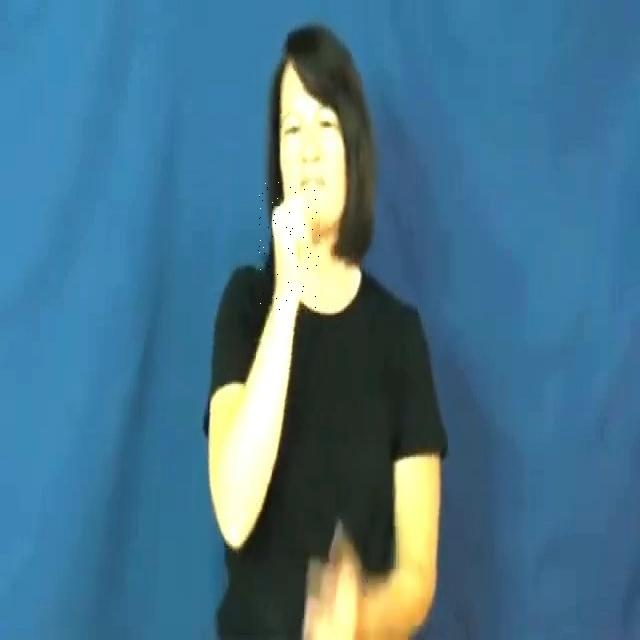cold: (258, 182, 320, 311)
